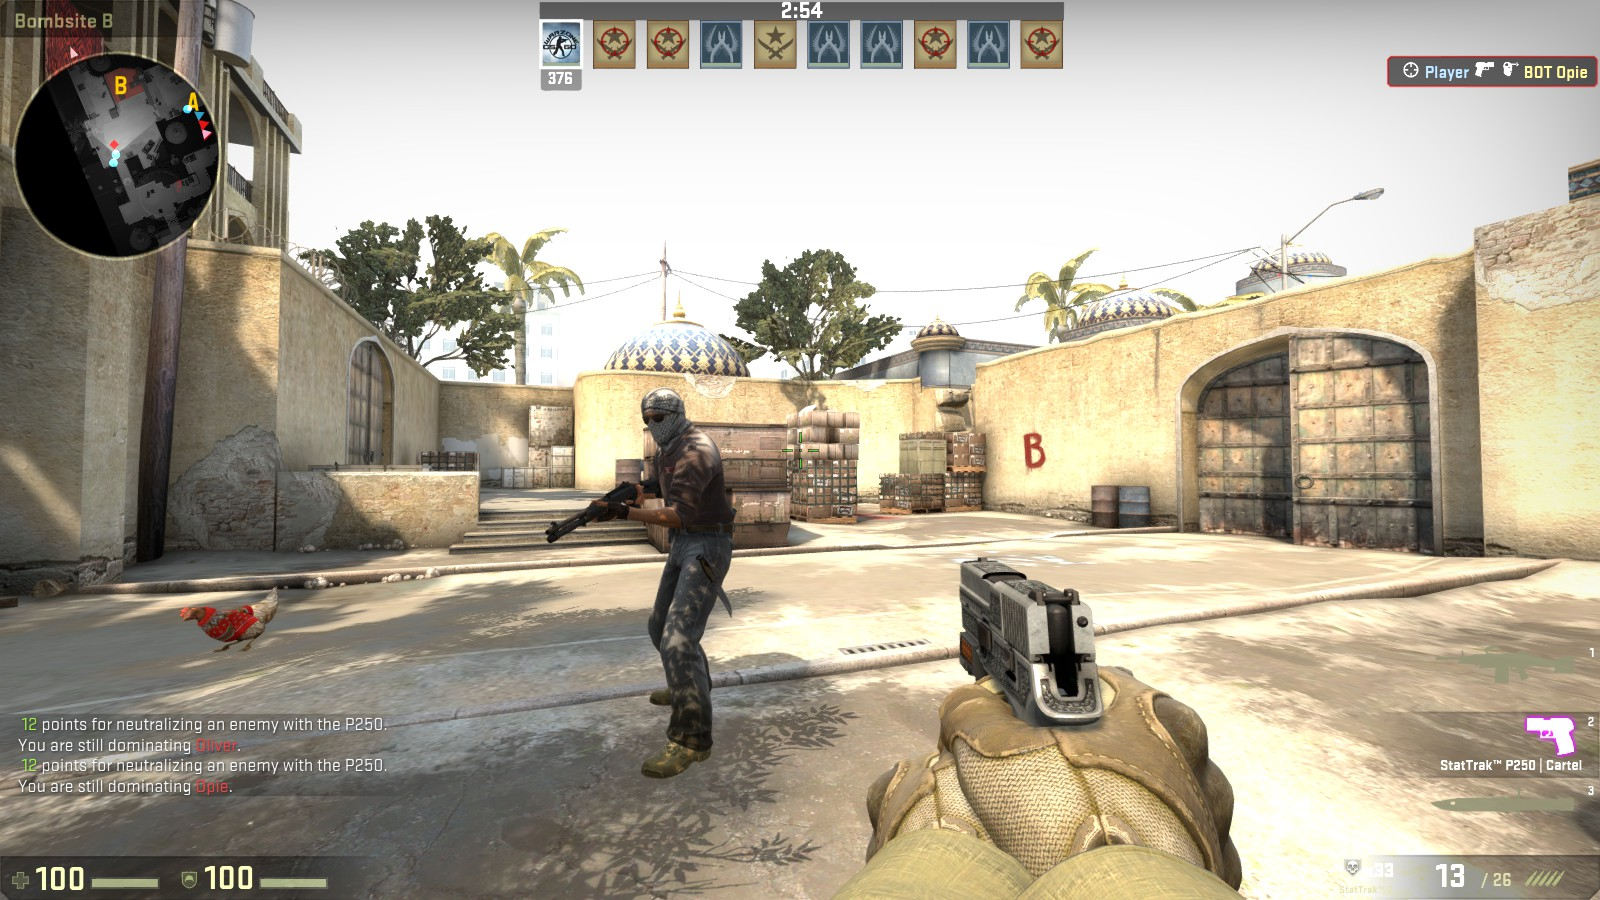t: (608, 380, 744, 786)
th: (629, 381, 700, 451)
